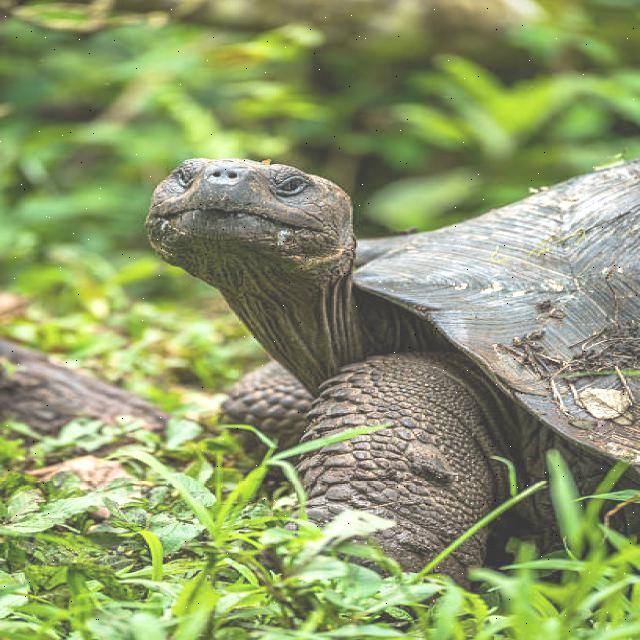tortoise: (112, 132, 640, 587)
